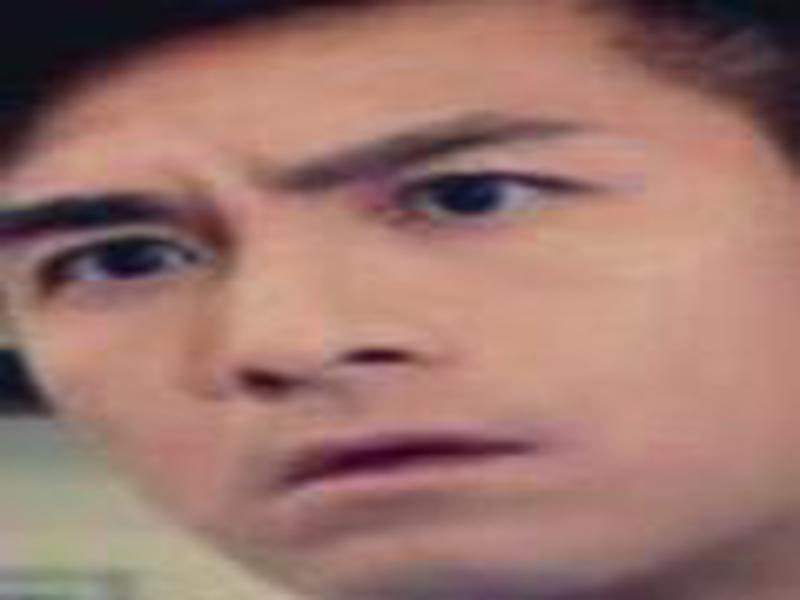without_mask: (16, 67, 734, 582)
